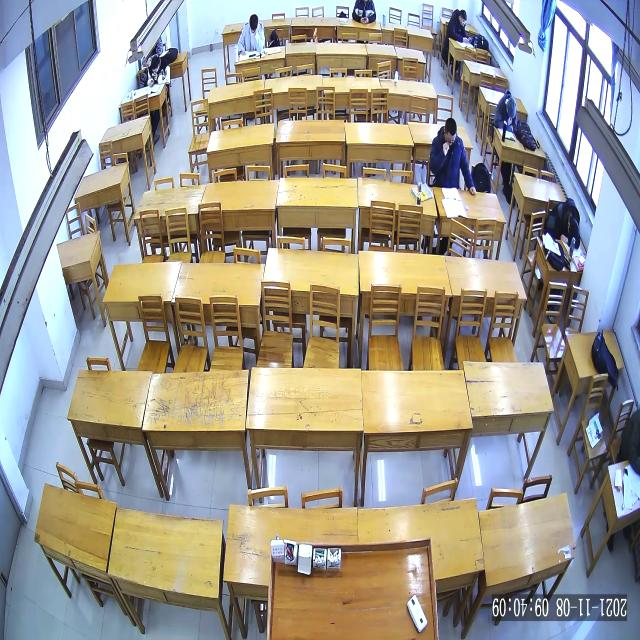bow: (546, 198, 580, 250), (493, 90, 518, 132)
down: (443, 118, 458, 146), (506, 97, 516, 119), (250, 14, 258, 34), (151, 55, 159, 74), (458, 10, 466, 28)
sit: (430, 117, 476, 195), (237, 14, 265, 56), (446, 9, 472, 44), (146, 56, 170, 87)
